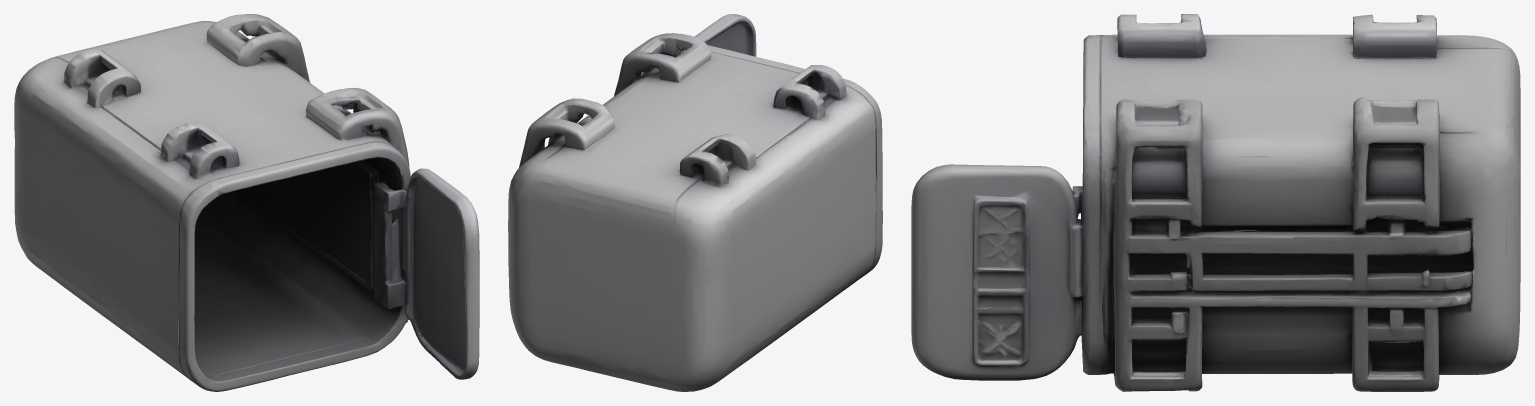
The model's file is droneCargo-gPfVqrVV.glb.
3 renders of one model, left to right at view 1: azimuth 30°, elevation 25°; view 2: azimuth 150°, elevation 25°; view 3: azimuth 270°, elevation 25°, orthographic. The views are drawn at different scales.
Visible parts, largest first — view 1: geometry_0; view 2: geometry_0; view 3: geometry_0.
Boxes of the visible parts, x1,y1,x2,y2 form: geometry_0: (14,14,479,391); geometry_0: (508,14,882,391); geometry_0: (911,14,1520,391).
Bounding box in the file's own units: 0.5438 × 0.4985 × 1.
Materials: 1 (1 with a texture image).
